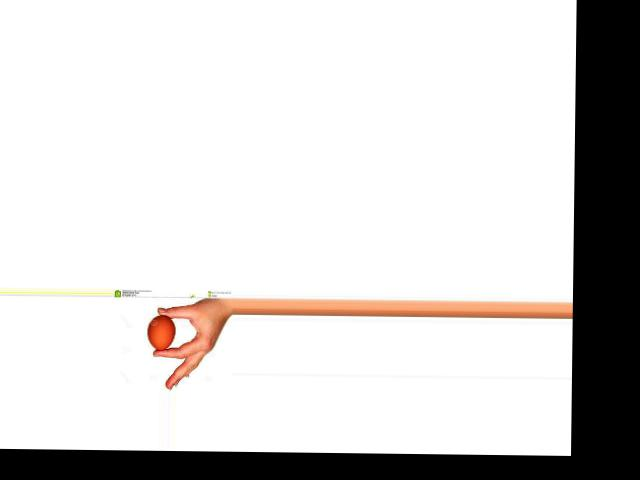egg: (147, 314, 176, 350)
